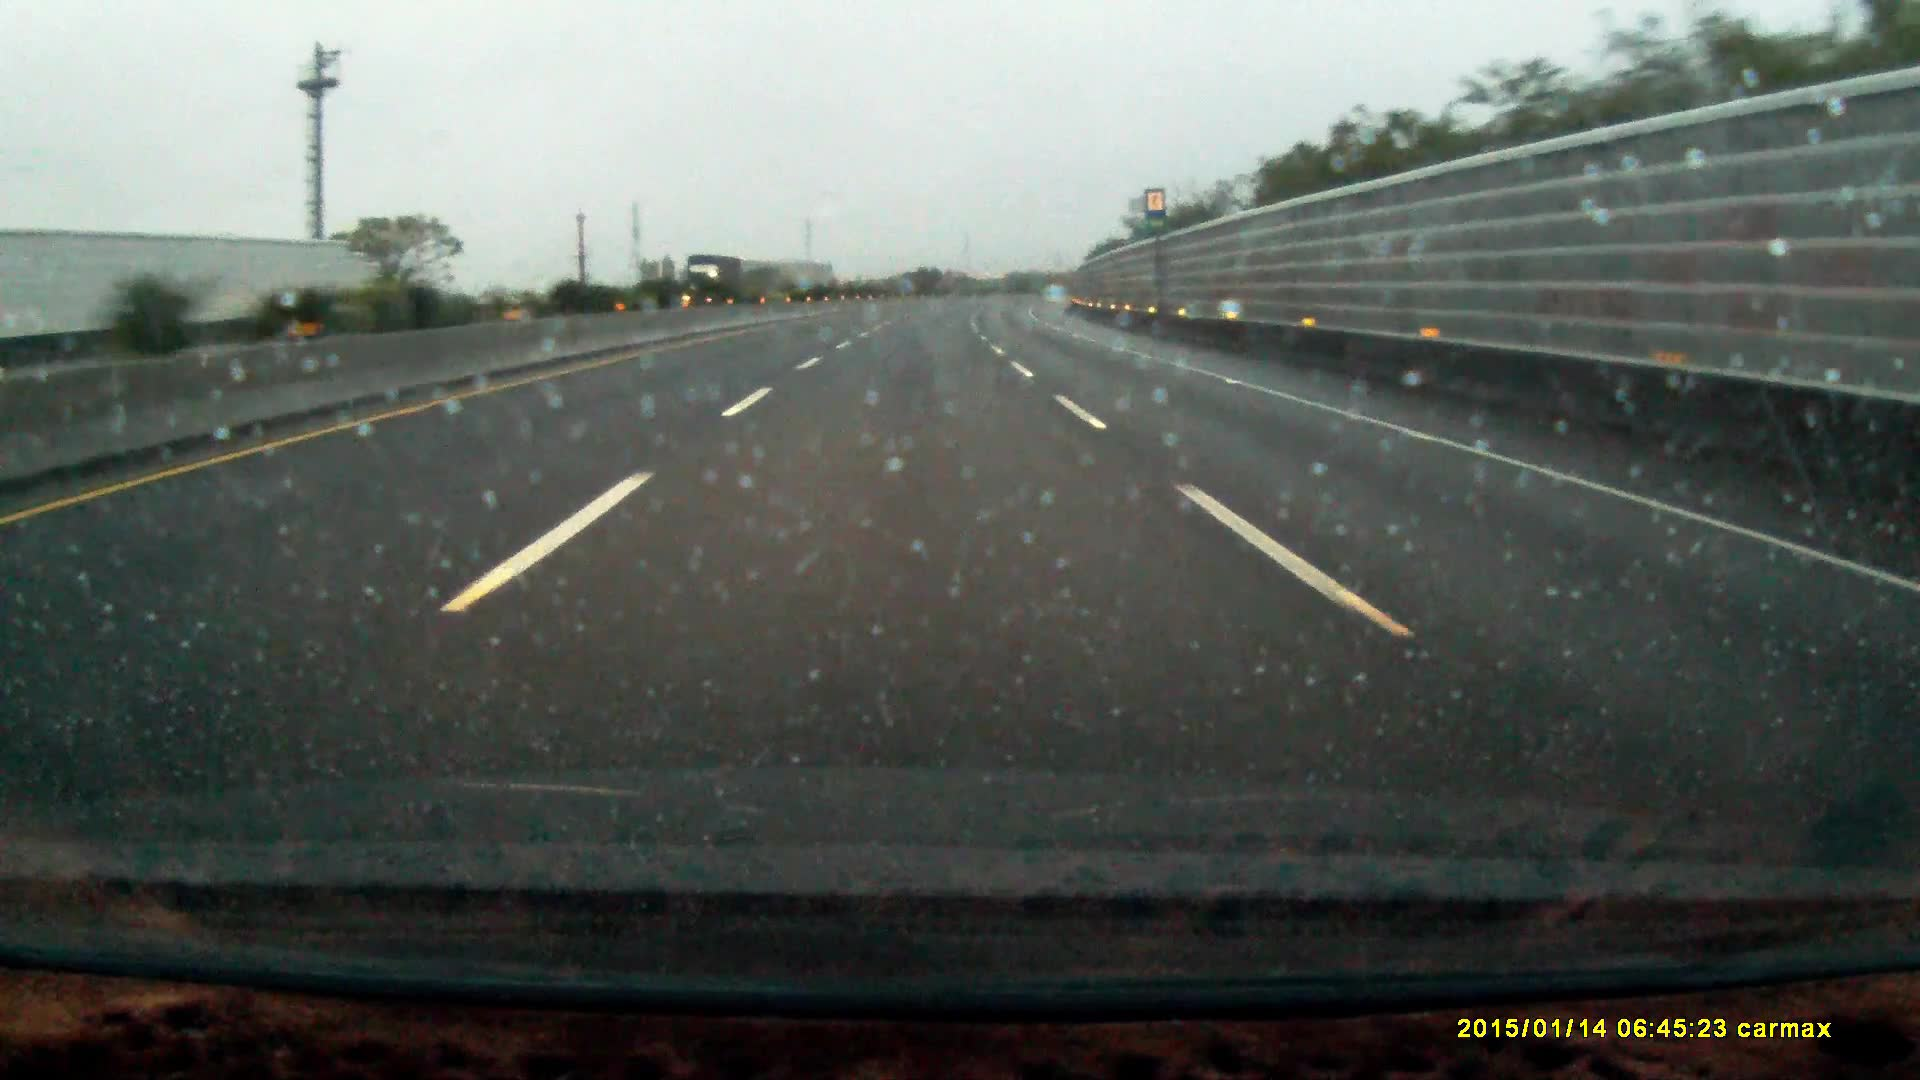vehicle: (684, 255, 742, 302)
